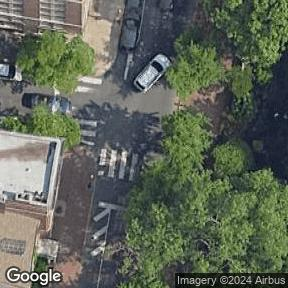vegetation: (120, 106, 288, 288), (10, 19, 103, 101), (0, 92, 88, 154)
